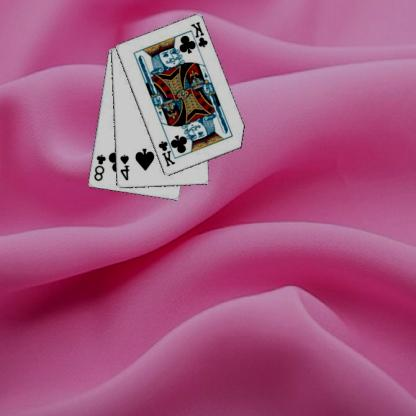4S: (119, 152, 132, 182)
8C: (92, 152, 108, 183)
KC: (189, 19, 210, 54), (158, 134, 179, 168)
